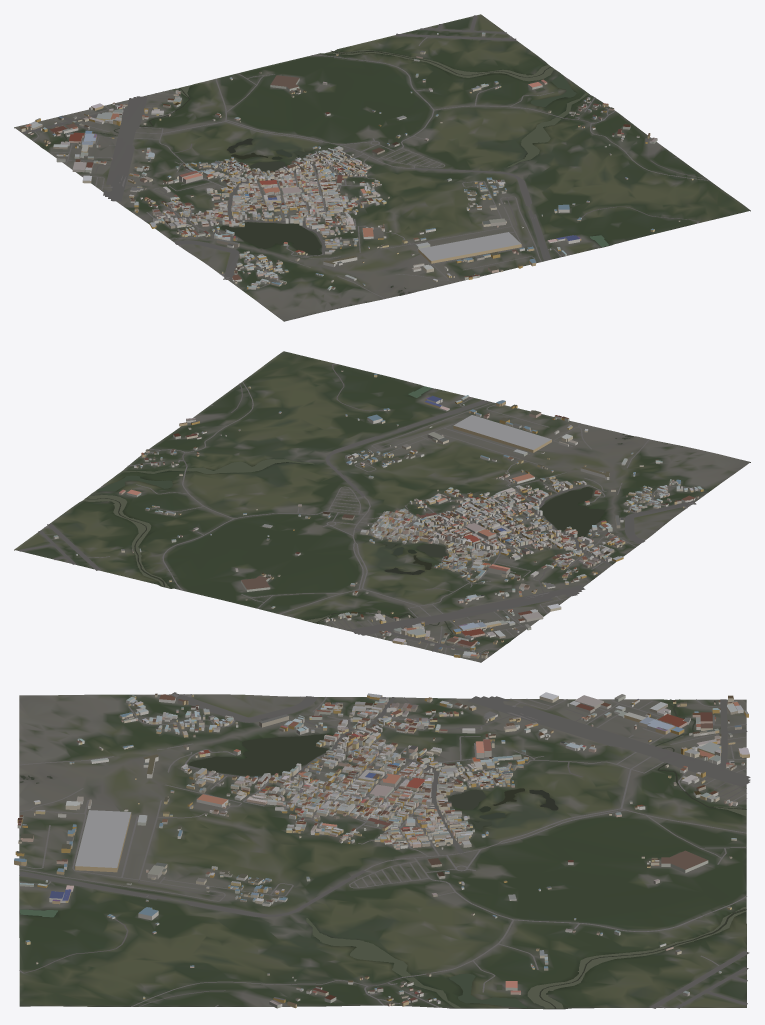
3 views of the same model, one above another, from view 1: azimuth 30°, elevation 25°; view 2: azimuth 150°, elevation 25°; view 3: azimuth 270°, elevation 25° (orthographic). The views are drawn at different scales.
Visible parts, largest first — view 1: ground, buildings, roads, water; view 2: ground, buildings, roads, water; view 3: ground, buildings, roads, water.
Boxes of the visible parts, <box> form: ground: <box>14,14,750,321</box>; buildings: <box>19,32,693,290</box>; roads: <box>22,15,709,298</box>; water: <box>42,49,609,295</box>; ground: <box>14,351,750,662</box>; buildings: <box>53,370,703,658</box>; roads: <box>18,364,696,657</box>; water: <box>82,386,633,642</box>; ground: <box>19,694,746,1009</box>; buildings: <box>14,692,749,1008</box>; roads: <box>19,692,750,1008</box>; water: <box>20,699,746,1008</box>.
Bounding box in the file's own units: 1424 × 25.09 × 1419.
